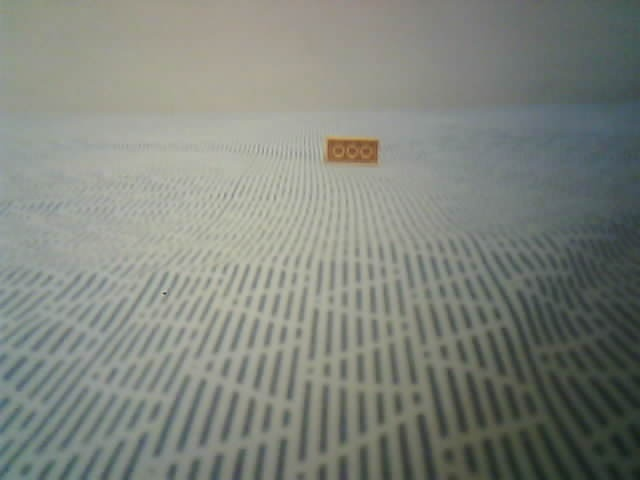lego: (322, 135, 381, 168)
